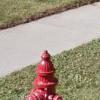Hydrant: (26, 39, 65, 100)
